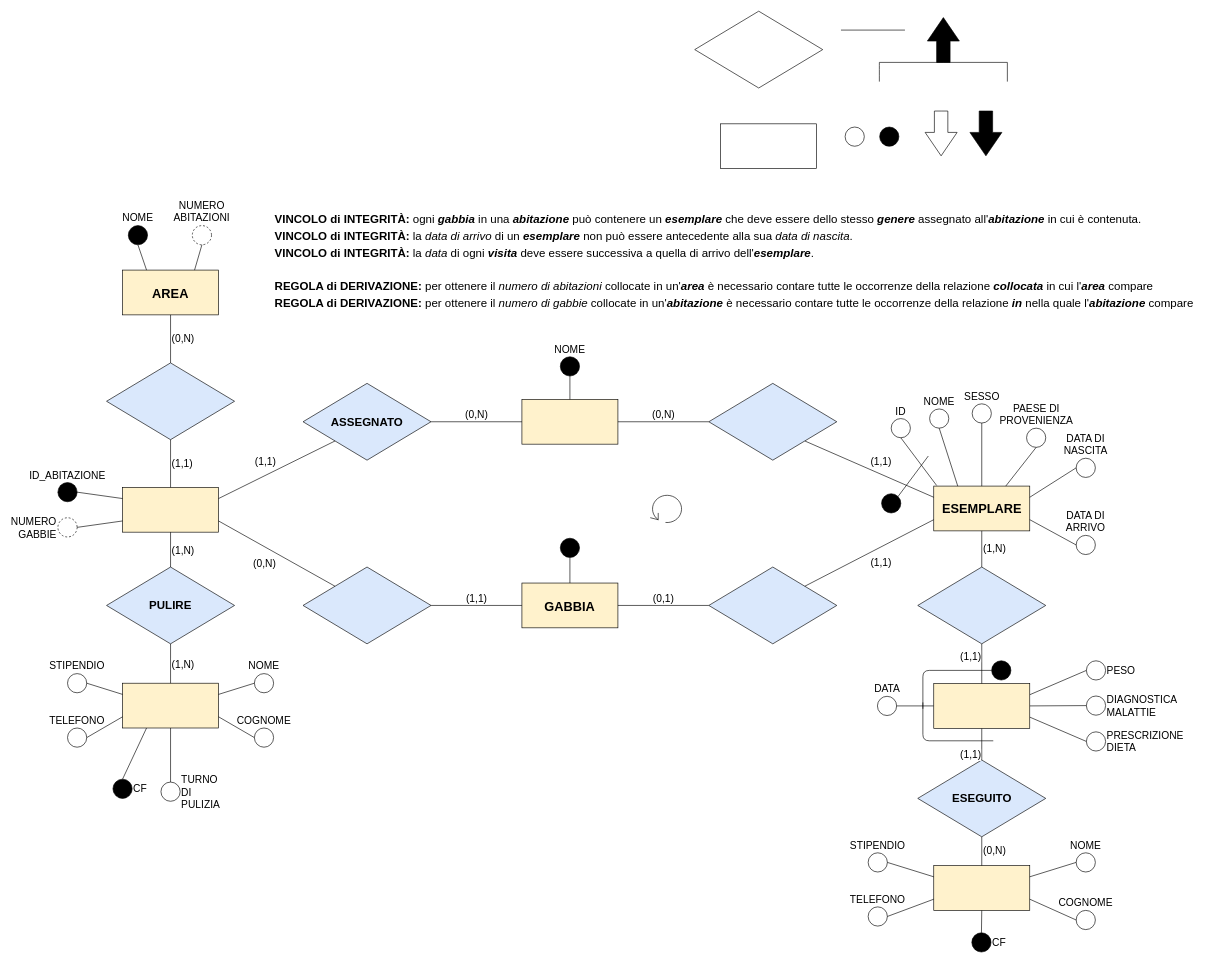
This 1212x963 diagram has some shape labels left out. The shapes that lost their labels are listed below. From the top down, each one's centre as x and y in pixels, then its label:
(x=170, y=401): COLLOCATA
(x=569, y=421): GENERE
(x=772, y=421): APPARTIENE
(x=170, y=509): ABITAZIONE
(x=570, y=547): ID_GABBIA
(x=366, y=605): IN
(x=772, y=605): CONTENUTO
(x=981, y=605): RICEVE
(x=170, y=705): ADDETTO PULIZIE
(x=981, y=705): VISITA
(x=981, y=887): VETERINARIO
